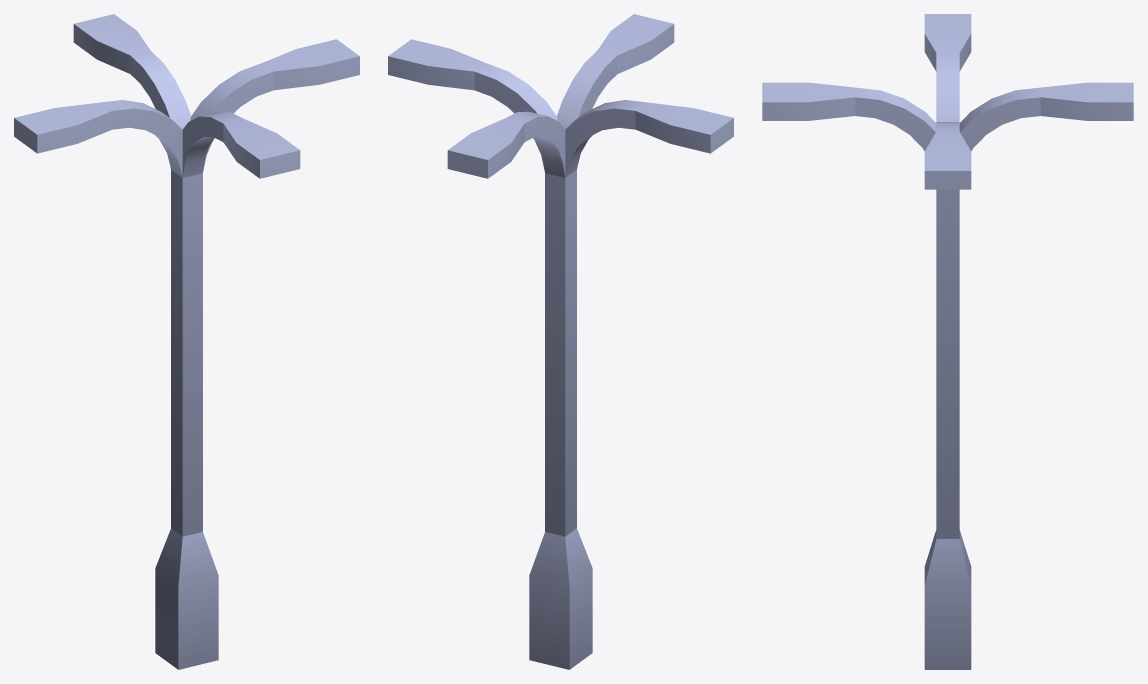
File: light-curved-cross.fbx
3 views of the same model, side by side, from view 1: azimuth 30°, elevation 25°; view 2: azimuth 150°, elevation 25°; view 3: azimuth 270°, elevation 25° (orthographic).
Visible parts, largest first — view 1: light-curved-cross; view 2: light-curved-cross; view 3: light-curved-cross.
Boxes of the visible parts, x1,y1,x2,y2 form: light-curved-cross: [14, 14, 359, 669]; light-curved-cross: [388, 14, 733, 669]; light-curved-cross: [762, 14, 1133, 669].
Size of the model in its own units: 40 by 67.5 by 40.
